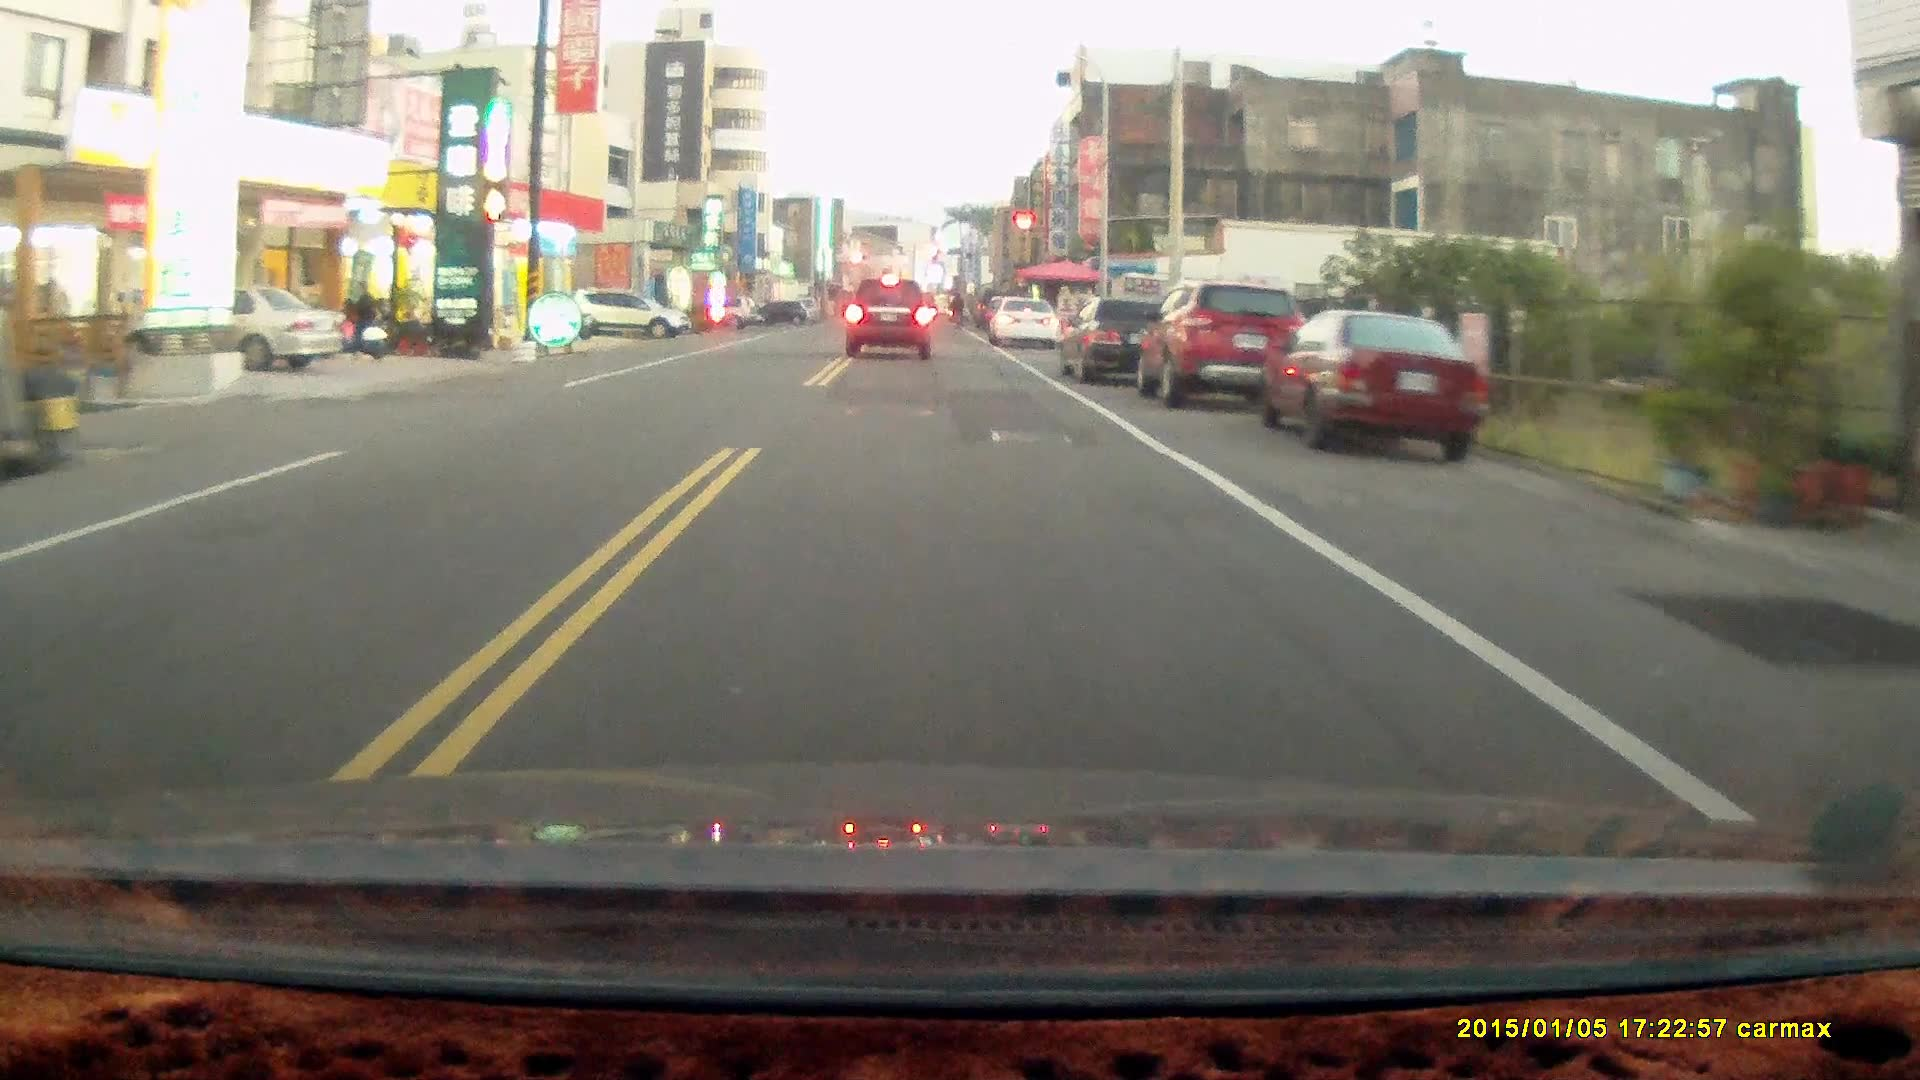vehicle: (1257, 303, 1495, 458), (1139, 276, 1317, 404), (128, 282, 343, 373), (1060, 295, 1185, 382), (845, 274, 938, 357), (572, 285, 690, 338), (990, 295, 1062, 352)
